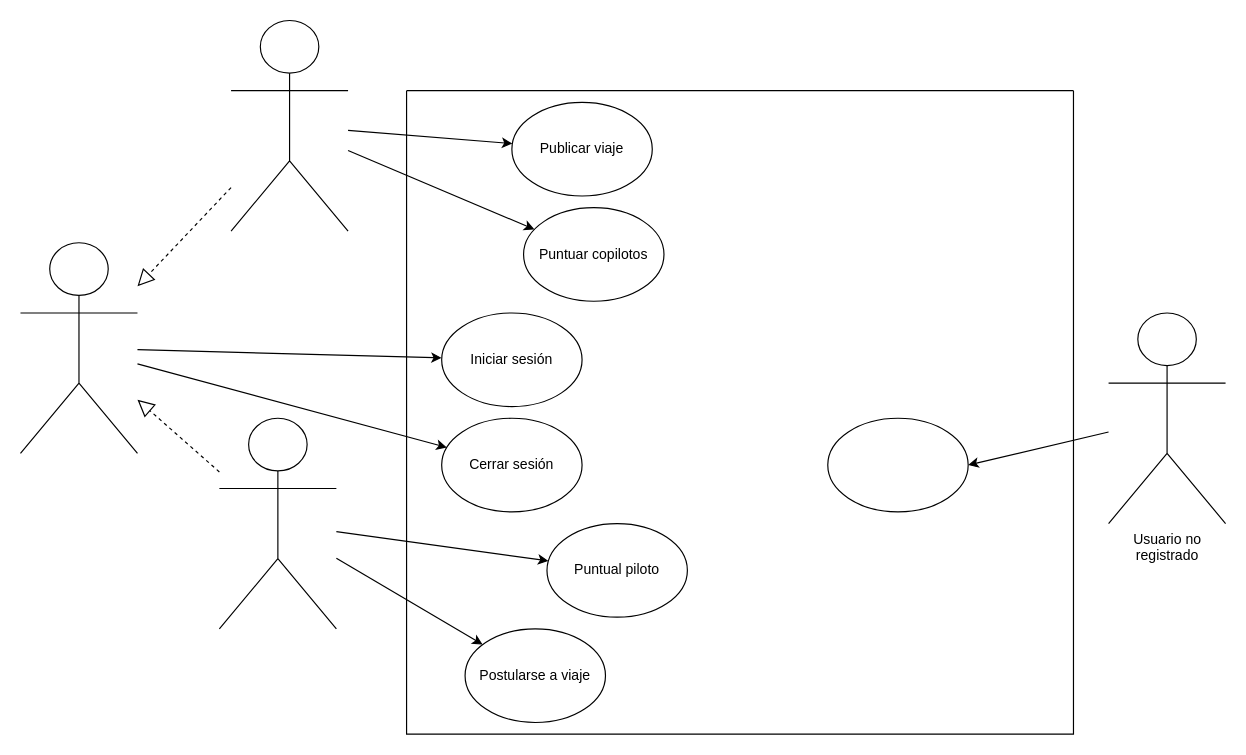
The diagram is 1246 pixels wide and 755 high, and some of its shapes have lost their labels. The shapes that lost their labels are listed below. From the top down, each one's box as (x1, y1, x2, y2) in pixels, then its label:
(230, 19, 348, 231): Piloto
(19, 242, 137, 453): Usuario registrado
(827, 417, 968, 512): Registrarse
(218, 417, 336, 629): Copiloto
